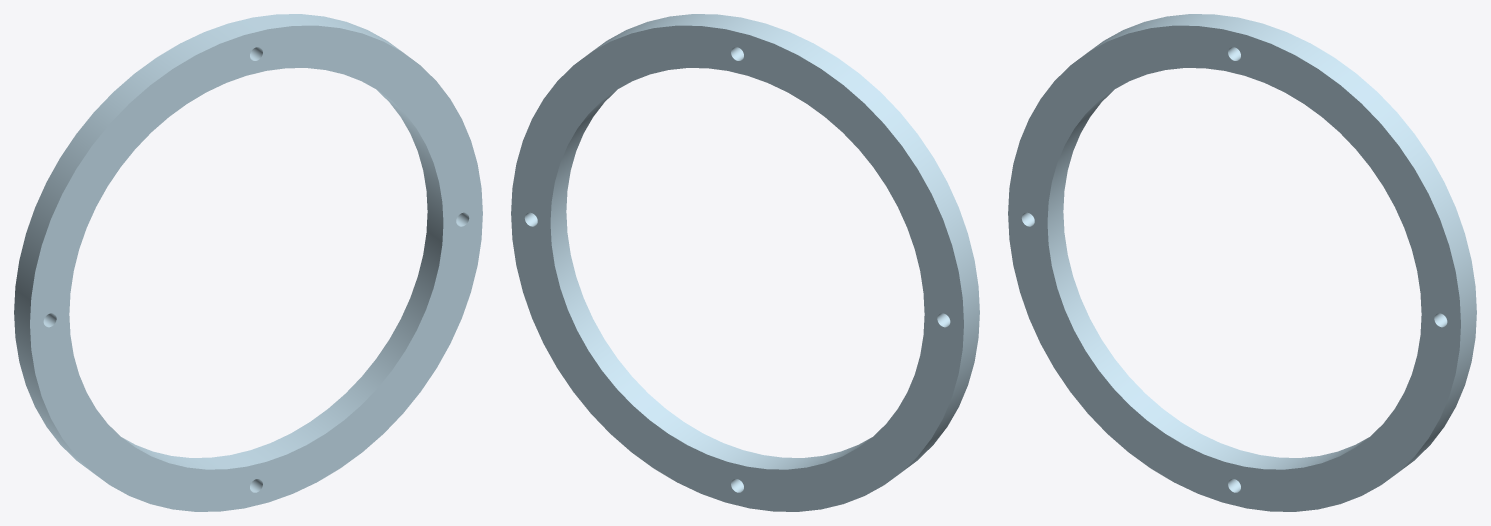
The picture shows the model from 3 angles, left to right: view 1: azimuth 30°, elevation 25°; view 2: azimuth 150°, elevation 25°; view 3: azimuth 330°, elevation 25°; orthographic projection.
Visible parts, largest first — view 1: mesh64, mesh70, mesh63; view 2: mesh65, mesh70, mesh63; view 3: mesh64, mesh70, mesh63.
Boxes of the visible parts, bbox=[...] form: mesh64: bbox=[30, 25, 482, 511]; mesh70: bbox=[14, 14, 401, 475]; mesh63: bbox=[122, 90, 443, 469]; mesh65: bbox=[511, 25, 963, 511]; mesh70: bbox=[592, 14, 979, 475]; mesh63: bbox=[550, 90, 871, 469]; mesh64: bbox=[1008, 25, 1460, 511]; mesh70: bbox=[1089, 14, 1476, 475]; mesh63: bbox=[1047, 90, 1368, 469].
Bounding box in the file's own units: 0.14 × 0.1398 × 0.0085.
